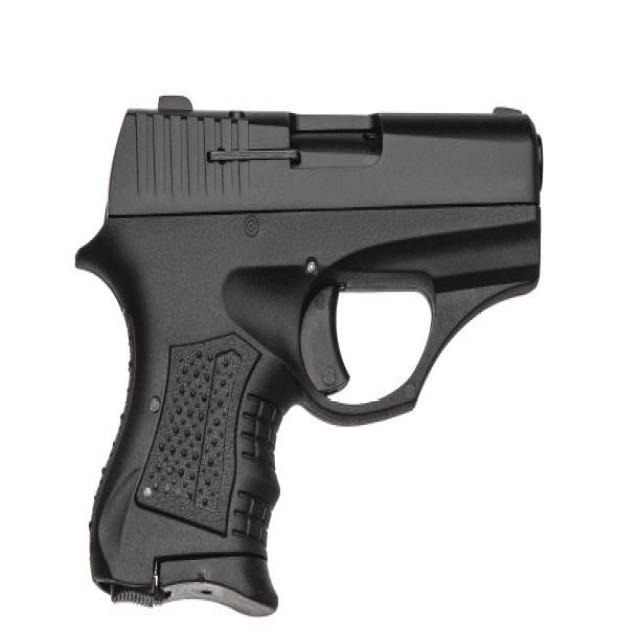pistol: (64, 81, 559, 632)
